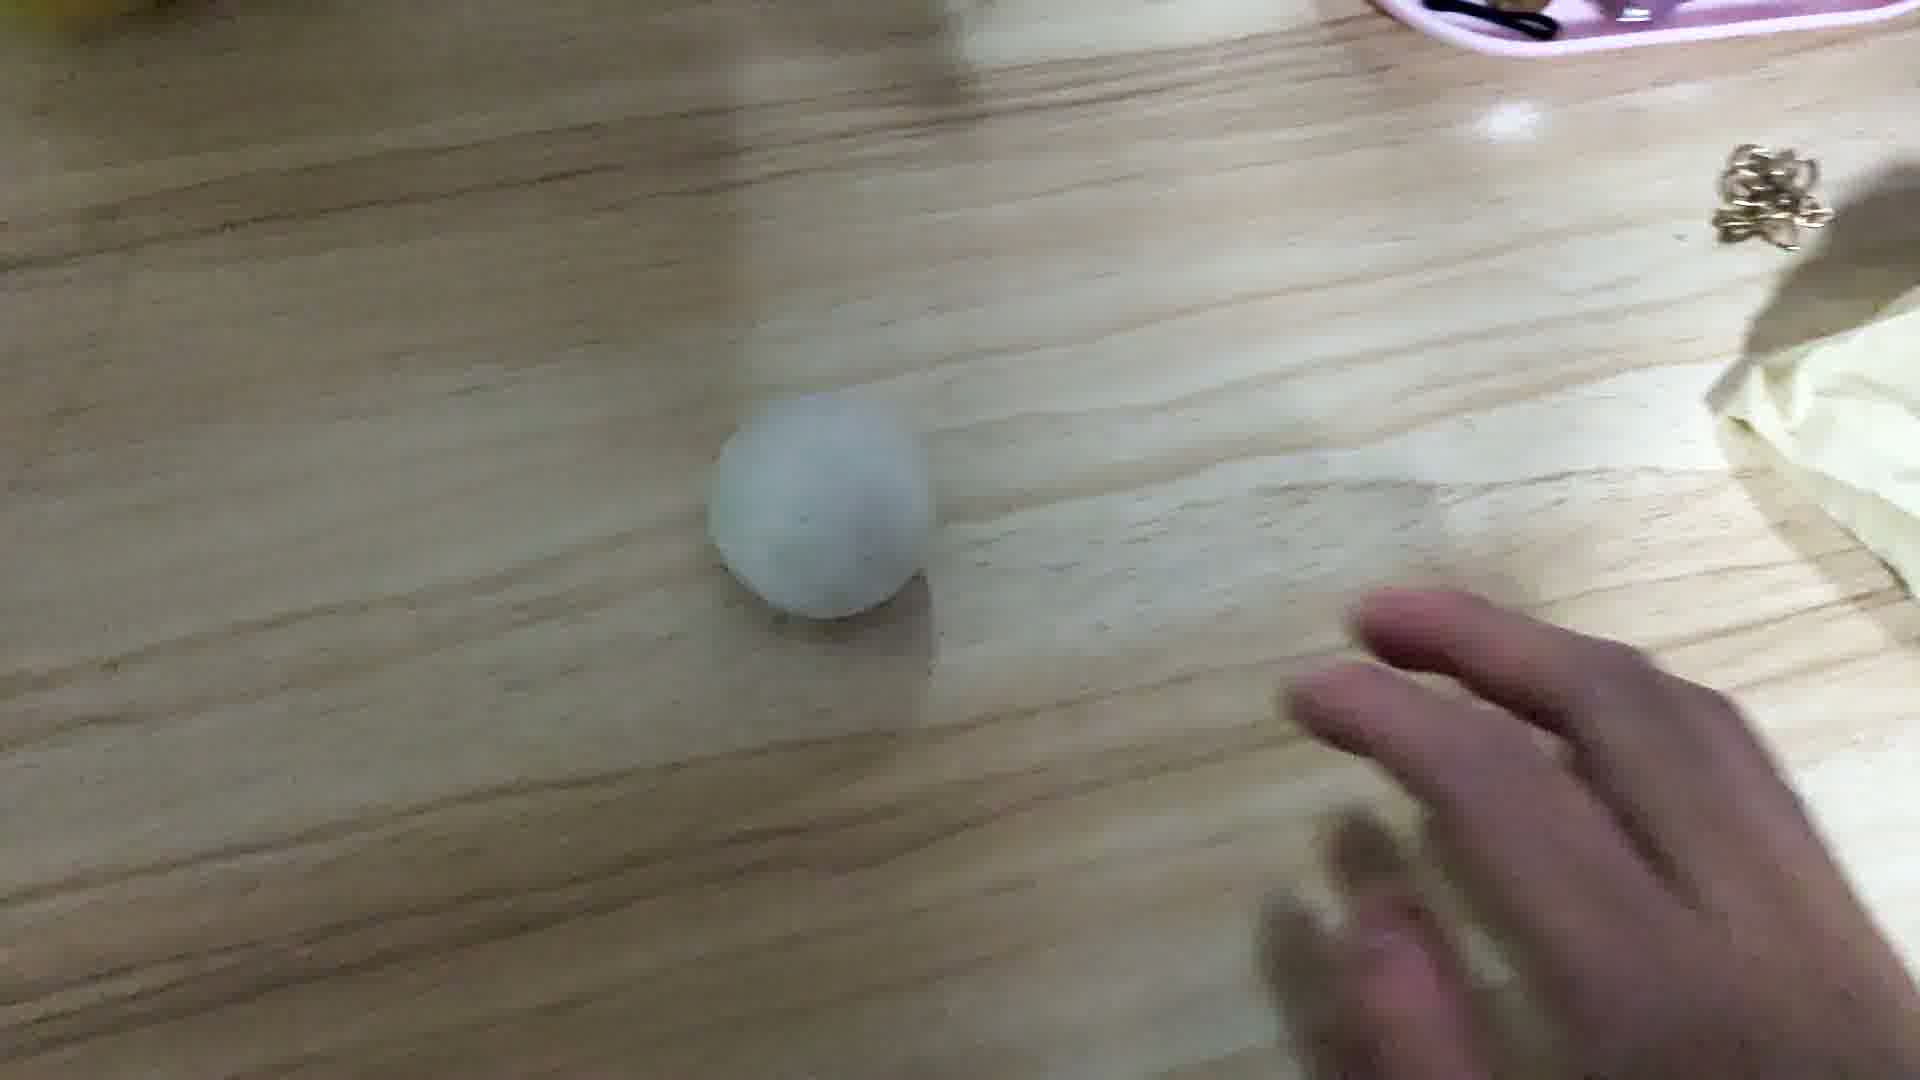Ball: (709, 386, 938, 616)
